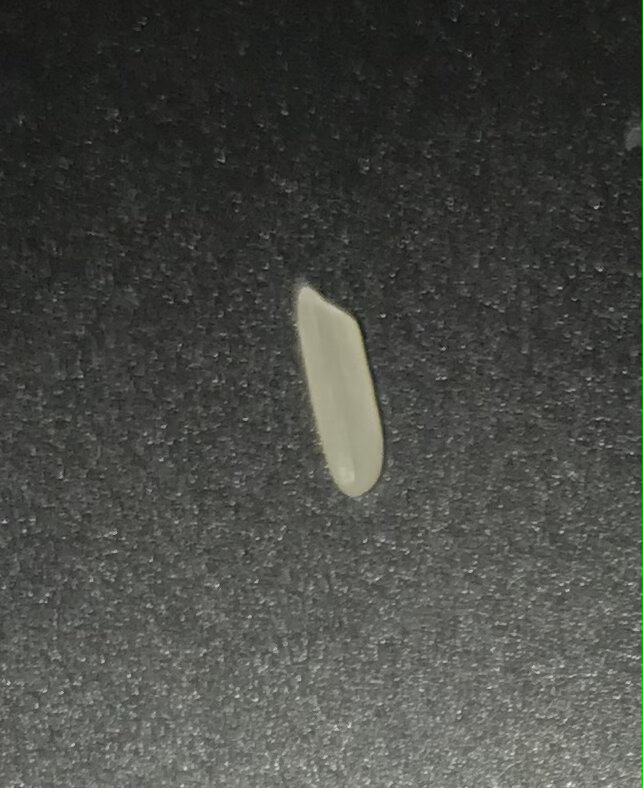Gao Long Lai: (281, 275, 405, 502)
